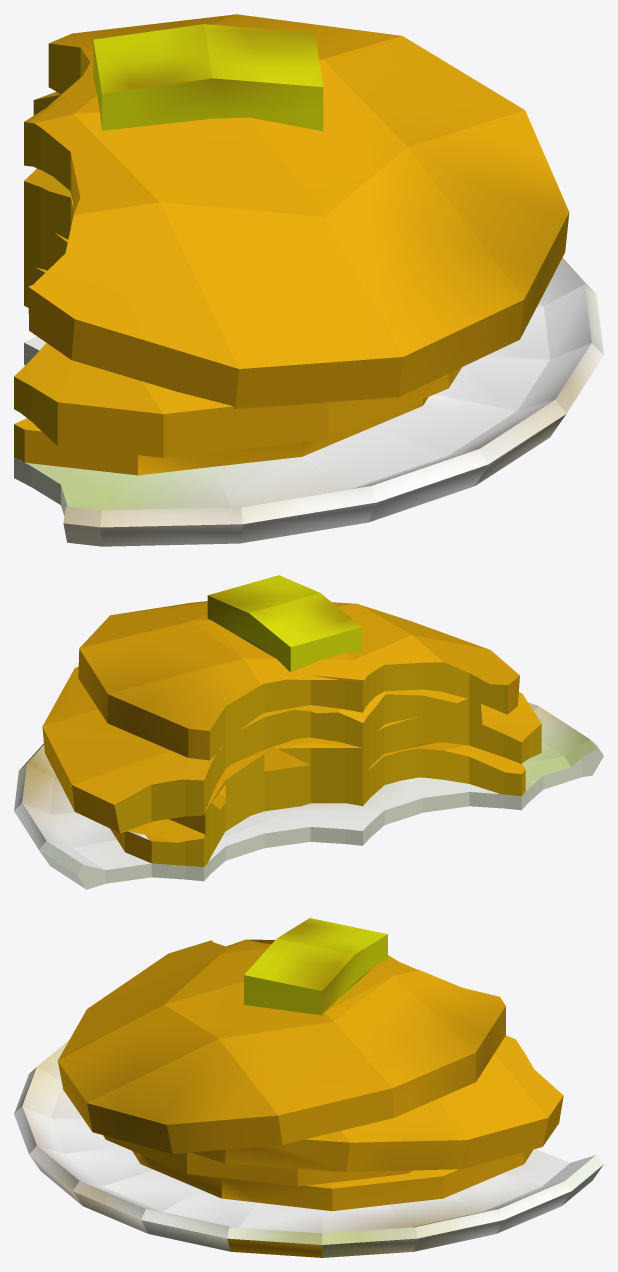
Rendered from waffle.fbx.
3 renders of one model, top to bottom at view 1: azimuth 30°, elevation 25°; view 2: azimuth 150°, elevation 25°; view 3: azimuth 270°, elevation 25°, orthographic. The views are drawn at different scales.
Parts seen in each view (by area): view 1: CoockieMan.008; view 2: CoockieMan.008; view 3: CoockieMan.008.
Part boxes in pixels (box(x1,y1,x2,y2)): CoockieMan.008: box(14, 14, 603, 546); CoockieMan.008: box(14, 575, 603, 889); CoockieMan.008: box(14, 918, 603, 1257).
Size of the model in its own units: 188 by 82.87 by 217.
Materials: 1 (1 with a texture image).
